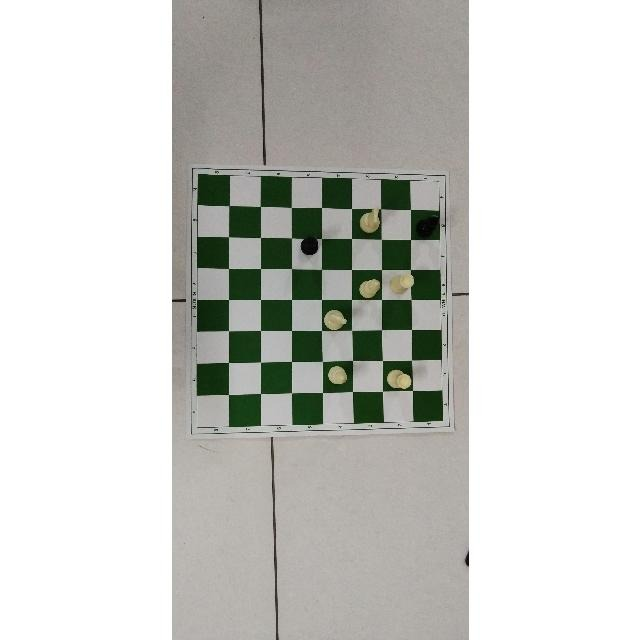black-bishop: (414, 214, 439, 237), (299, 234, 319, 256)
white-bishop: (358, 279, 379, 299), (327, 365, 346, 384)
white-knight: (357, 206, 380, 234), (322, 310, 345, 330)
white-rook: (388, 273, 413, 295), (386, 368, 412, 389)
